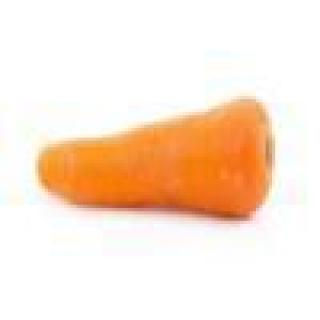Wortel: (17, 84, 292, 244)
